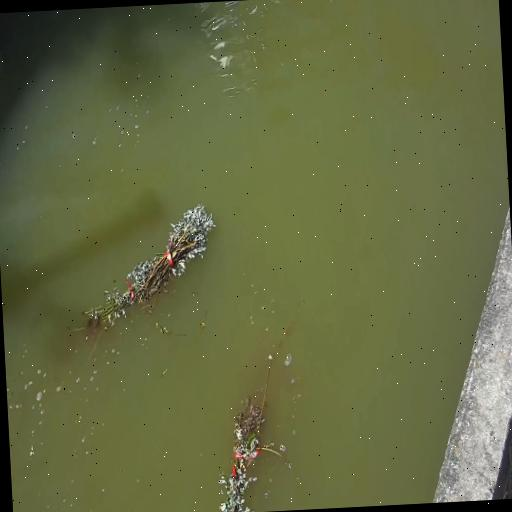twig: (60, 197, 222, 339), (219, 298, 305, 512)
